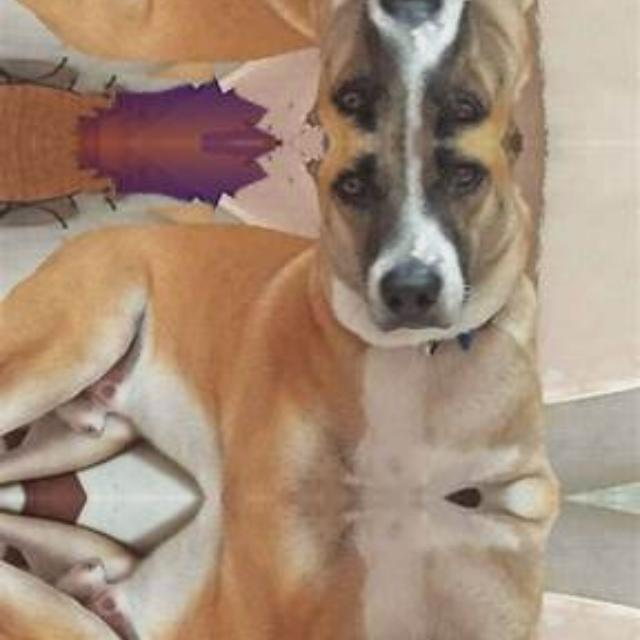dog: (14, 142, 572, 498), (13, 497, 572, 640), (13, 0, 572, 142)
